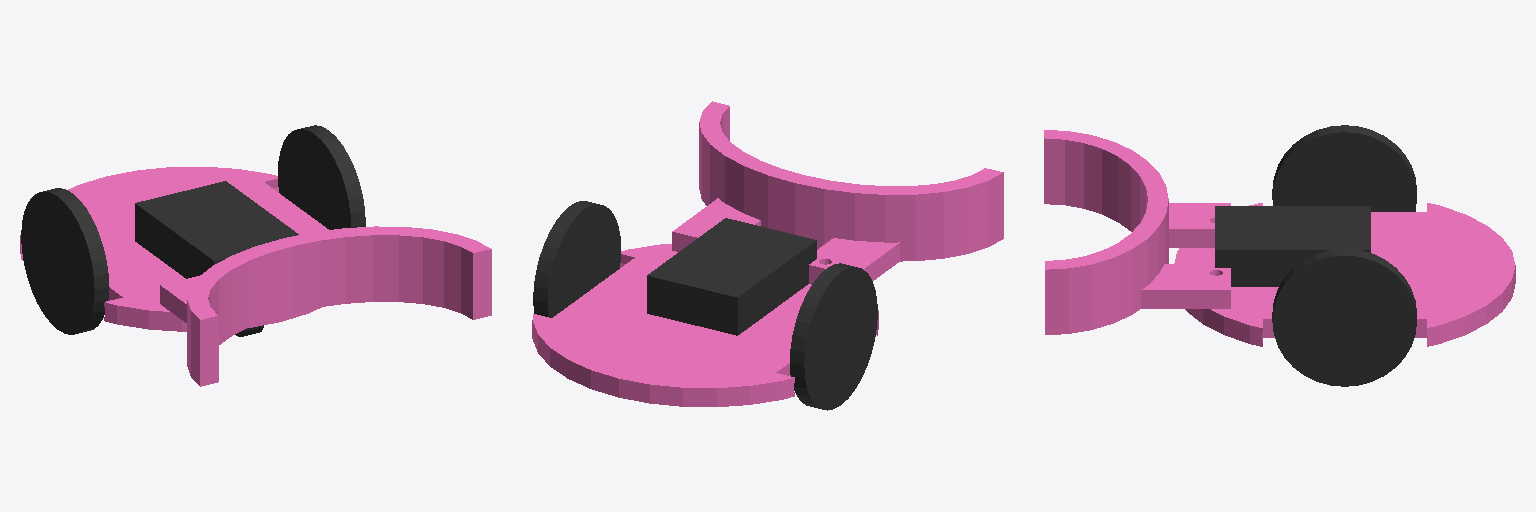
URDF robot description (romi):
<?xml version="1.0"?>
<robot name="romi">

  <material name="pink">
    <color rgba="1 0.5 0.8 1"/>
  </material>
  <material name="darkgrey">
    <color rgba="0.25 0.25 0.25 1"/>
  </material>

  <link concave="yes" name="base_link">
    <visual>
      <geometry>
        <mesh filename="base.stl"/>
      </geometry>
      <material name="pink"/>
    </visual>
    <collision concave="yes">
      <geometry>
        <mesh filename="base.stl"/>
      </geometry>
    </collision>
    <inertial>
      <origin rpy="0 0 0" xyz="0 0 0"/>
      <mass value="1.0"/>
      <inertia ixx="0.001" ixy="0" ixz="0" iyy="0.001" iyz="0" izz="0.001"/>
    </inertial>
  </link>

  <link name="wheel_l">
    <visual>
      <geometry>
        <cylinder length="0.008" radius="0.035"/>
      </geometry>
      <material name="darkgrey"/>
    </visual>
    <collision>
      <geometry>
        <cylinder length="0.008" radius="0.035"/>
      </geometry>
    </collision>
    <!-- contact taken from racecar_differential.urdf -->
    <contact>
      <lateral_friction value="1.0"/>
      <rolling_friction value="0.0"/>
      <stiffness value="300000"/>
      <damping value="1000"/>
    </contact>
    <inertial>
      <origin rpy="0 0 0" xyz="0 0 0"/>
      <mass value="0.1"/>
      <inertia ixx="0.0001" ixy="0" ixz="0" iyy="0.0001" iyz="0" izz="0.0001"/>
    </inertial>
  </link>
  <joint name="wheel_l_joint" type="continuous">
    <parent link="base_link"/>
    <child link="wheel_l"/>
    <origin rpy="0 1.57 0" xyz="0.0705 0 0.01"/>
    <axis xyz="0 0 -1"/>
  </joint>

  <link name="wheel_r">
    <visual>
      <geometry>
        <cylinder length="0.008" radius="0.035"/>
      </geometry>
      <material name="darkgrey"/>
    </visual>
    <collision>
      <geometry>
        <cylinder length="0.008" radius="0.035"/>
      </geometry>
    </collision>
    <!-- contact taken from racecar_differential.urdf -->
    <contact>
      <lateral_friction value="1.0"/>
      <rolling_friction value="0.0"/>
      <stiffness value="300000"/>
      <damping value="1000"/>
    </contact>
    <inertial>
      <origin rpy="0 0 0" xyz="0 0 0"/>
      <mass value="0.1"/>
      <inertia ixx="0.0001" ixy="0" ixz="0" iyy="0.0001" iyz="0" izz="0.0001"/>
    </inertial>
  </link>
  <joint name="wheel_r_joint" type="continuous">
    <parent link="base_link"/>
    <child link="wheel_r"/>
    <origin rpy="0 1.57 0" xyz="-0.0705 0 0.01"/>
    <axis xyz="0 0 -1"/>
  </joint>

  <link name="wheel_rear">
    <visual>
      <geometry>
        <cylinder length="0.01" radius="0.009"/>
      </geometry>
      <material name="darkgrey"/>
    </visual>
    <collision>
      <geometry>
        <cylinder length="0.01" radius="0.009"/>
      </geometry>
    </collision>
    <contact>
      <lateral_friction value="0.0"/>
      <rolling_friction value="0.0"/>
      <stiffness value="300000"/>
      <damping value="1000"/>
    </contact>
    <inertial>
      <origin rpy="0 0 0" xyz="0 0 0"/>
      <mass value="0.1"/>
      <inertia ixx="0.0001" ixy="0" ixz="0" iyy="0.0001" iyz="0" izz="0.0001"/>
    </inertial>
  </link>
  <joint name="wheel_rear_joint" type="continuous">
    <parent link="base_link"/>
    <child link="wheel_rear"/>
    <origin rpy="0 1.57 0" xyz="0 -0.05 -0.0152"/>
    <axis xyz="0 0 -1"/>
  </joint>

  <link name="attached_load">
    <visual>
      <geometry>
        <box size="0.05 0.075 0.025"/>
      </geometry>
      <material name="darkgrey"/>
    </visual>
    <collision>
      <geometry>
        <box size="0.05 0.075 0.025"/>
      </geometry>
    </collision>
    <inertial>
      <origin rpy="0 0 0" xyz="0 0 0"/>
      <mass value="1.0"/>
      <inertia ixx="0.001" ixy="0" ixz="0" iyy="0.001" iyz="0" izz="0.001"/>
    </inertial>
  </link>
  <joint name="attached_load_joint" type="fixed">
    <parent link="base_link"/>
    <child link="attached_load"/>
    <origin rpy="0 0 0" xyz="0 -0.025 0.0125"/>
  </joint>

  <link concave="yes" name="gripper">
    <visual>
      <geometry>
        <mesh filename="gripper.stl"/>
      </geometry>
      <material name="pink"/>
    </visual>
    <collision concave="yes">
      <geometry>
        <mesh filename="gripper.stl"/>
      </geometry>
    </collision>
    <inertial>
      <origin rpy="0 0 0" xyz="0 0 0"/>
      <mass value="0.1"/>
      <inertia ixx="0.001" ixy="0" ixz="0" iyy="0.001" iyz="0" izz="0.001"/>
    </inertial>
  </link>
  <joint name="gripper_joint" type="fixed">
    <parent link="base_link"/>
    <child link="gripper"/>
    <origin rpy="0 0 3.142" xyz="0 -0.085 0.005"/>
  </joint>

  <link name="gripper_centre_point">
      <collision>
      <geometry>
        <sphere radius="0.005"/>
      </geometry>
    </collision>
    <inertial>
      <origin rpy="0 0 0" xyz="0 0 0"/>
      <mass value="0.1"/>
      <inertia ixx="0.001" ixy="0" ixz="0" iyy="0.001" iyz="0" izz="0.001"/>
    </inertial>
  </link>
  <joint name="gripper_centre_point_joint" type="fixed">
    <parent link="base_link"/>
    <child link="gripper_centre_point"/>
    <origin rpy="0 0 0" xyz="0 -0.085 0.005"/>
  </joint>

</robot>

--- Render facts (derived) ---
Views: 3 orthographic renders of the robot side by side, from view 1: azimuth 30°, elevation 25°; view 2: azimuth 150°, elevation 25°; view 3: azimuth 270°, elevation 25°.
Robot: romi — 7 links, 6 joints (3 continuous, 3 fixed); root link base_link; default pose: every joint at zero.
Links seen in each view (by area): view 1: gripper, base_link, wheel_r, attached_load, wheel_l; view 2: gripper, base_link, attached_load, wheel_r, wheel_l; view 3: gripper, base_link, wheel_l, wheel_r, attached_load.
Link boxes in pixels (x1,y1,x2,y2): gripper: (160,226,491,386); base_link: (20,167,328,331); wheel_r: (21,188,108,334); attached_load: (135,181,298,278); wheel_l: (278,125,365,229); gripper: (672,101,1003,284); base_link: (532,244,878,406); attached_load: (647,218,816,335); wheel_r: (790,263,877,410); wheel_l: (533,201,620,317); gripper: (1044,130,1230,334); base_link: (1174,203,1515,346); wheel_l: (1272,249,1416,386); wheel_r: (1272,125,1416,211); attached_load: (1215,206,1370,286).
Size in the robot's own frame: 0.16 by 0.2275 by 0.07 metres.
2 mesh visuals loaded from 2 distinct referenced files (2 binary STL).